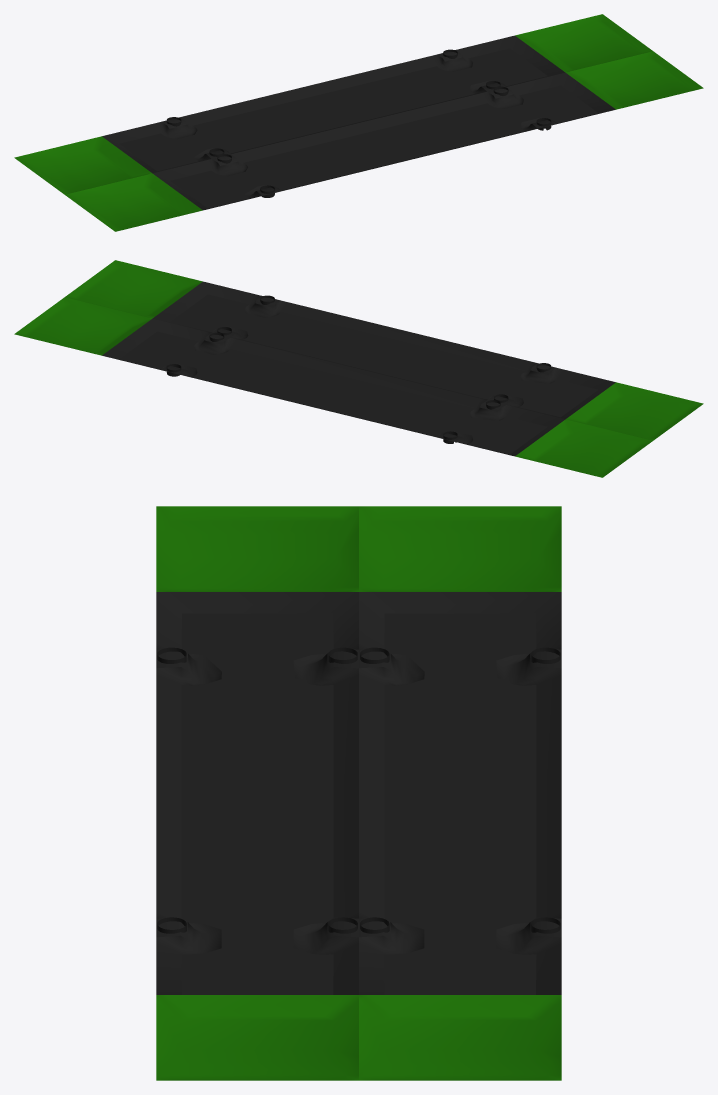
Rendered from Building_B_Staircase_C_Ceiling_B.fbx.
3 views of the same model, one above another, from view 1: azimuth 30°, elevation 25°; view 2: azimuth 150°, elevation 25°; view 3: azimuth 270°, elevation 25° (orthographic). The views are drawn at different scales.
Visible parts, largest first — view 1: Geom_Building_B_Staircase_C_Ceiling_B_LOD00; view 2: Geom_Building_B_Staircase_C_Ceiling_B_LOD00; view 3: Geom_Building_B_Staircase_C_Ceiling_B_LOD00.
Boxes of the visible parts, left/top/right/bottom form: Geom_Building_B_Staircase_C_Ceiling_B_LOD00: left=14, top=14, right=703, bottom=231; Geom_Building_B_Staircase_C_Ceiling_B_LOD00: left=14, top=260, right=703, bottom=477; Geom_Building_B_Staircase_C_Ceiling_B_LOD00: left=156, top=506, right=561, bottom=1080.
Size of what is drawn, in the model's own units: 1140 by 19.53 by 340.
